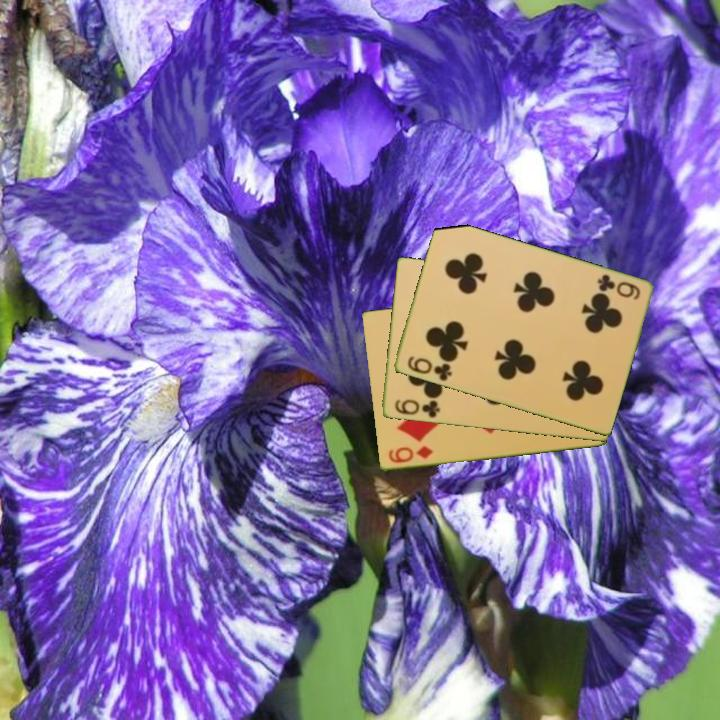6c: (403, 353, 455, 384), (593, 271, 643, 303), (391, 396, 443, 421)
6d: (385, 443, 436, 466)
